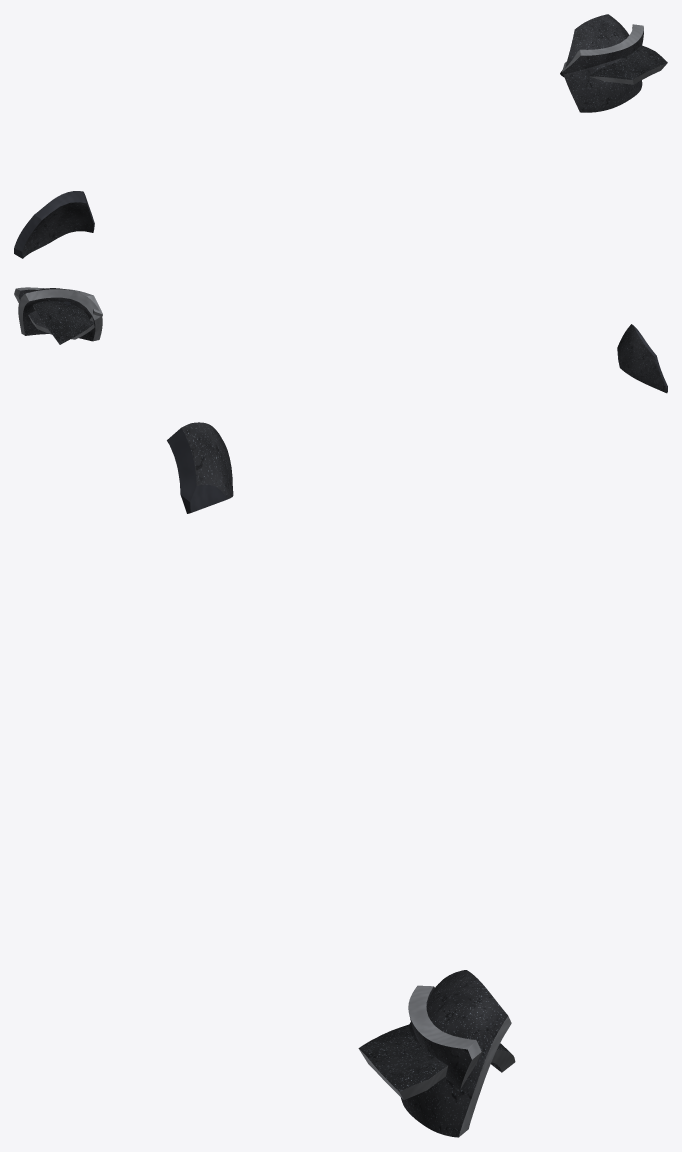
The model's file is fragments.glb.
The picture shows the model from 3 angles, top to bottom: view 1: azimuth 30°, elevation 25°; view 2: azimuth 150°, elevation 25°; view 3: azimuth 270°, elevation 25°; orthographic projection. The views are drawn at different scales.
Visible parts, largest first — view 1: frag_L02, frag_L06, frag_L03, frag_L01; view 2: frag_L06, frag_L02, frag_L03, frag_L01; view 3: frag_L02, frag_L06, frag_L03, frag_L01.
Boxes of the visible parts, x1,y1,x2,y2 form: frag_L02: [563, 14, 642, 112]; frag_L06: [14, 191, 94, 258]; frag_L03: [560, 45, 667, 84]; frag_L01: [562, 24, 643, 77]; frag_L06: [617, 324, 667, 393]; frag_L02: [18, 288, 102, 341]; frag_L03: [32, 300, 93, 344]; frag_L01: [14, 287, 102, 339]; frag_L02: [401, 970, 511, 1137]; frag_L06: [167, 422, 233, 513]; frag_L03: [358, 1024, 515, 1099]; frag_L01: [408, 985, 481, 1089].
Bounding box in the file's own units: 6.55 × 0.9766 × 1.66.
24 materials, 24 textured.
